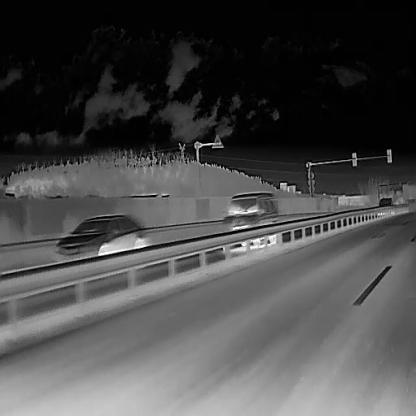car: (52, 213, 150, 263), (218, 191, 279, 248), (375, 197, 394, 215)
